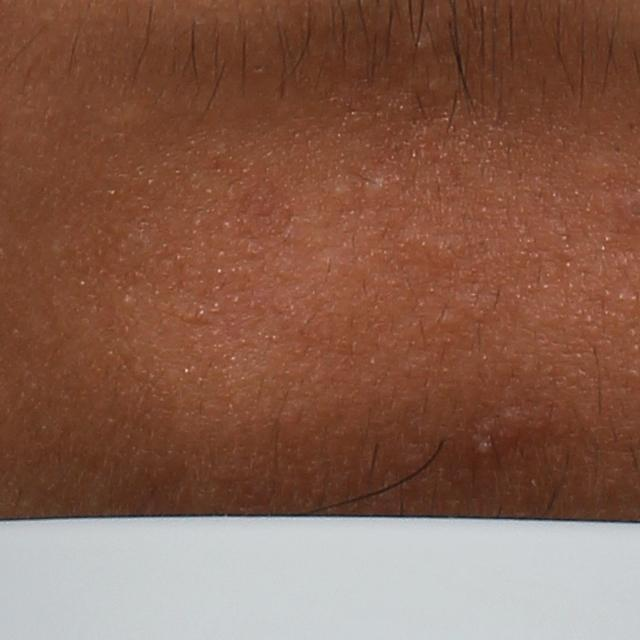comedo: (363, 173, 390, 206)
